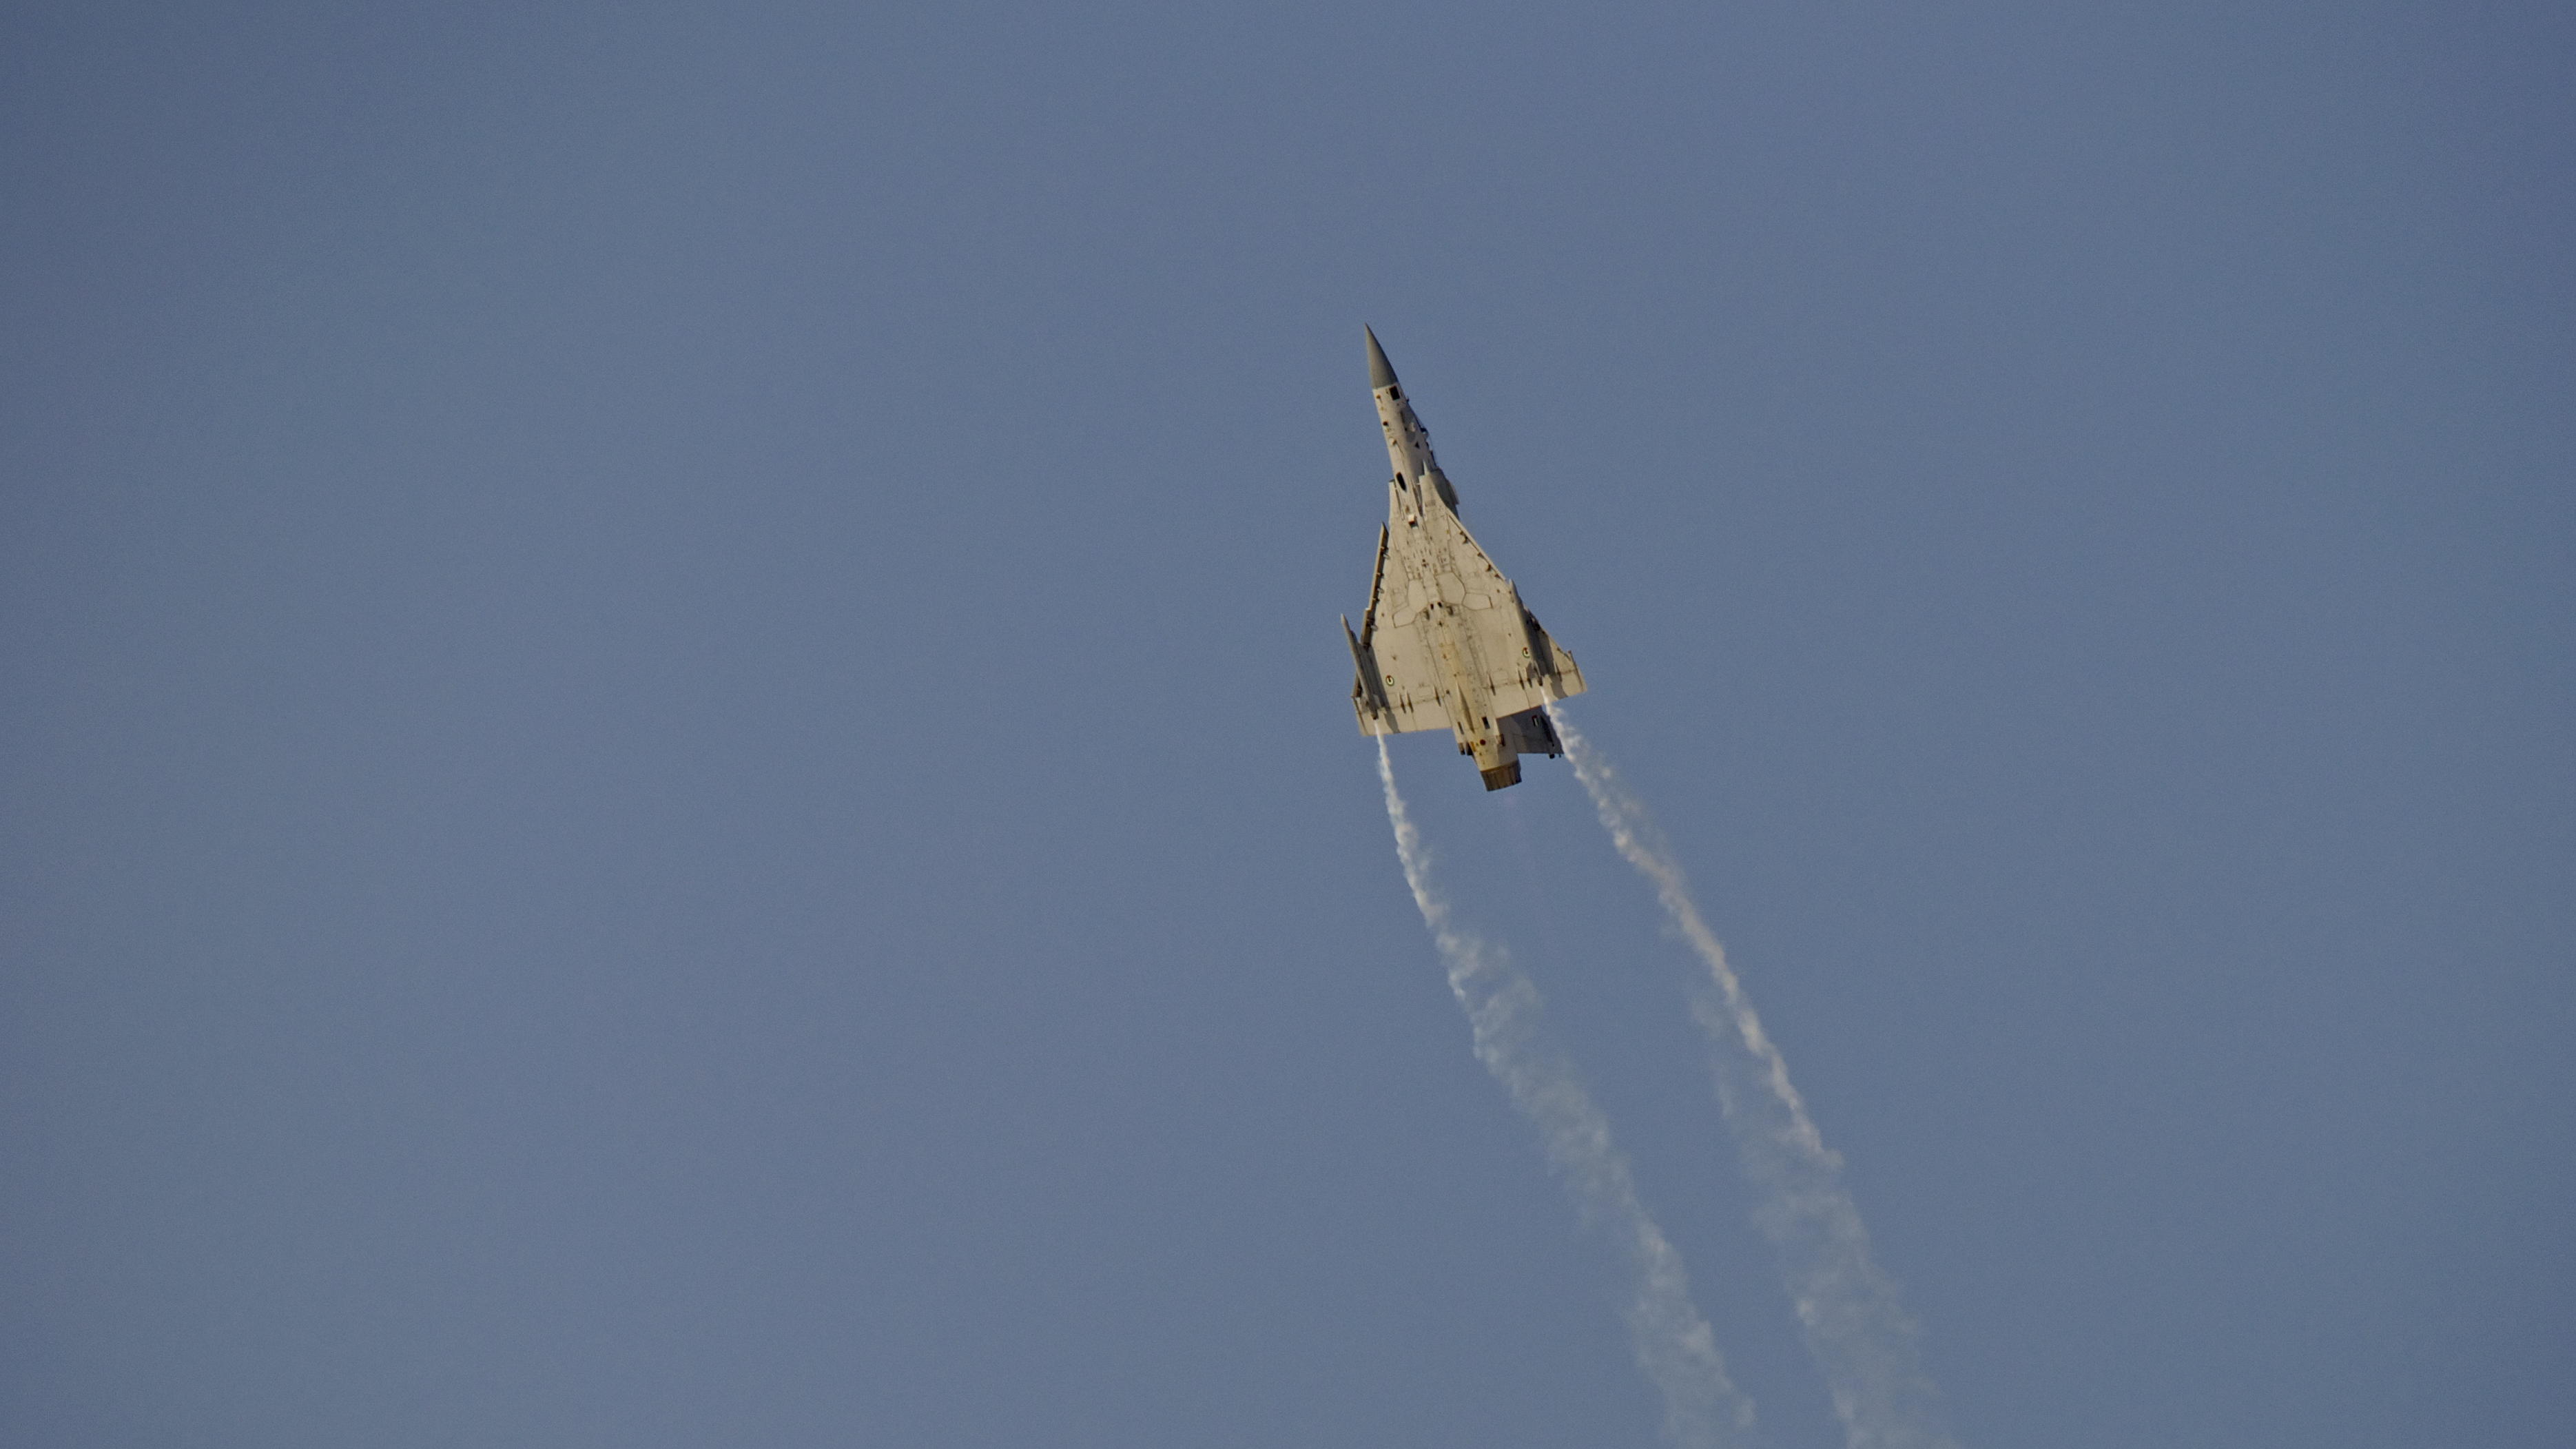Mirage2000: (1339, 320, 1589, 793)
